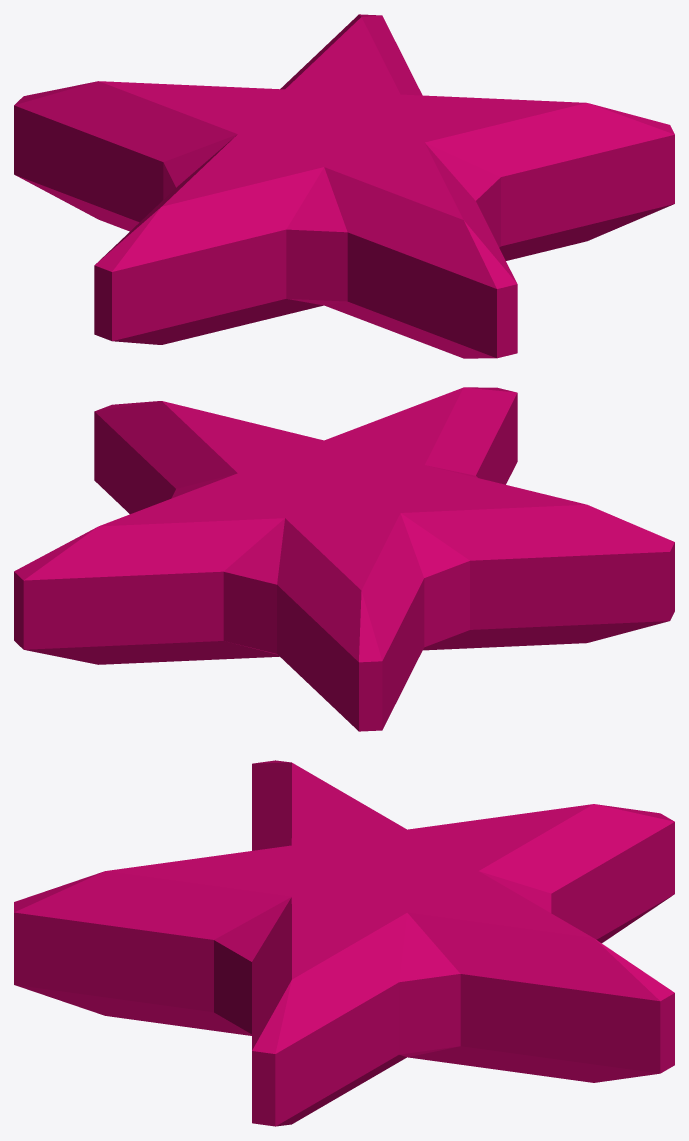
Rendered from seastar.obj.
3 renders of one model, top to bottom at view 1: azimuth 30°, elevation 25°; view 2: azimuth 150°, elevation 25°; view 3: azimuth 270°, elevation 25°, orthographic. The views are drawn at different scales.
Parts seen in each view (by area): view 1: Circle; view 2: Circle; view 3: Circle.
Part boxes in pixels (x1,y1,x2,y2): Circle: [14, 14, 674, 358]; Circle: [14, 387, 674, 731]; Circle: [14, 760, 674, 1126].
Size of the model in its own units: 1.74 by 0.4 by 1.66.
